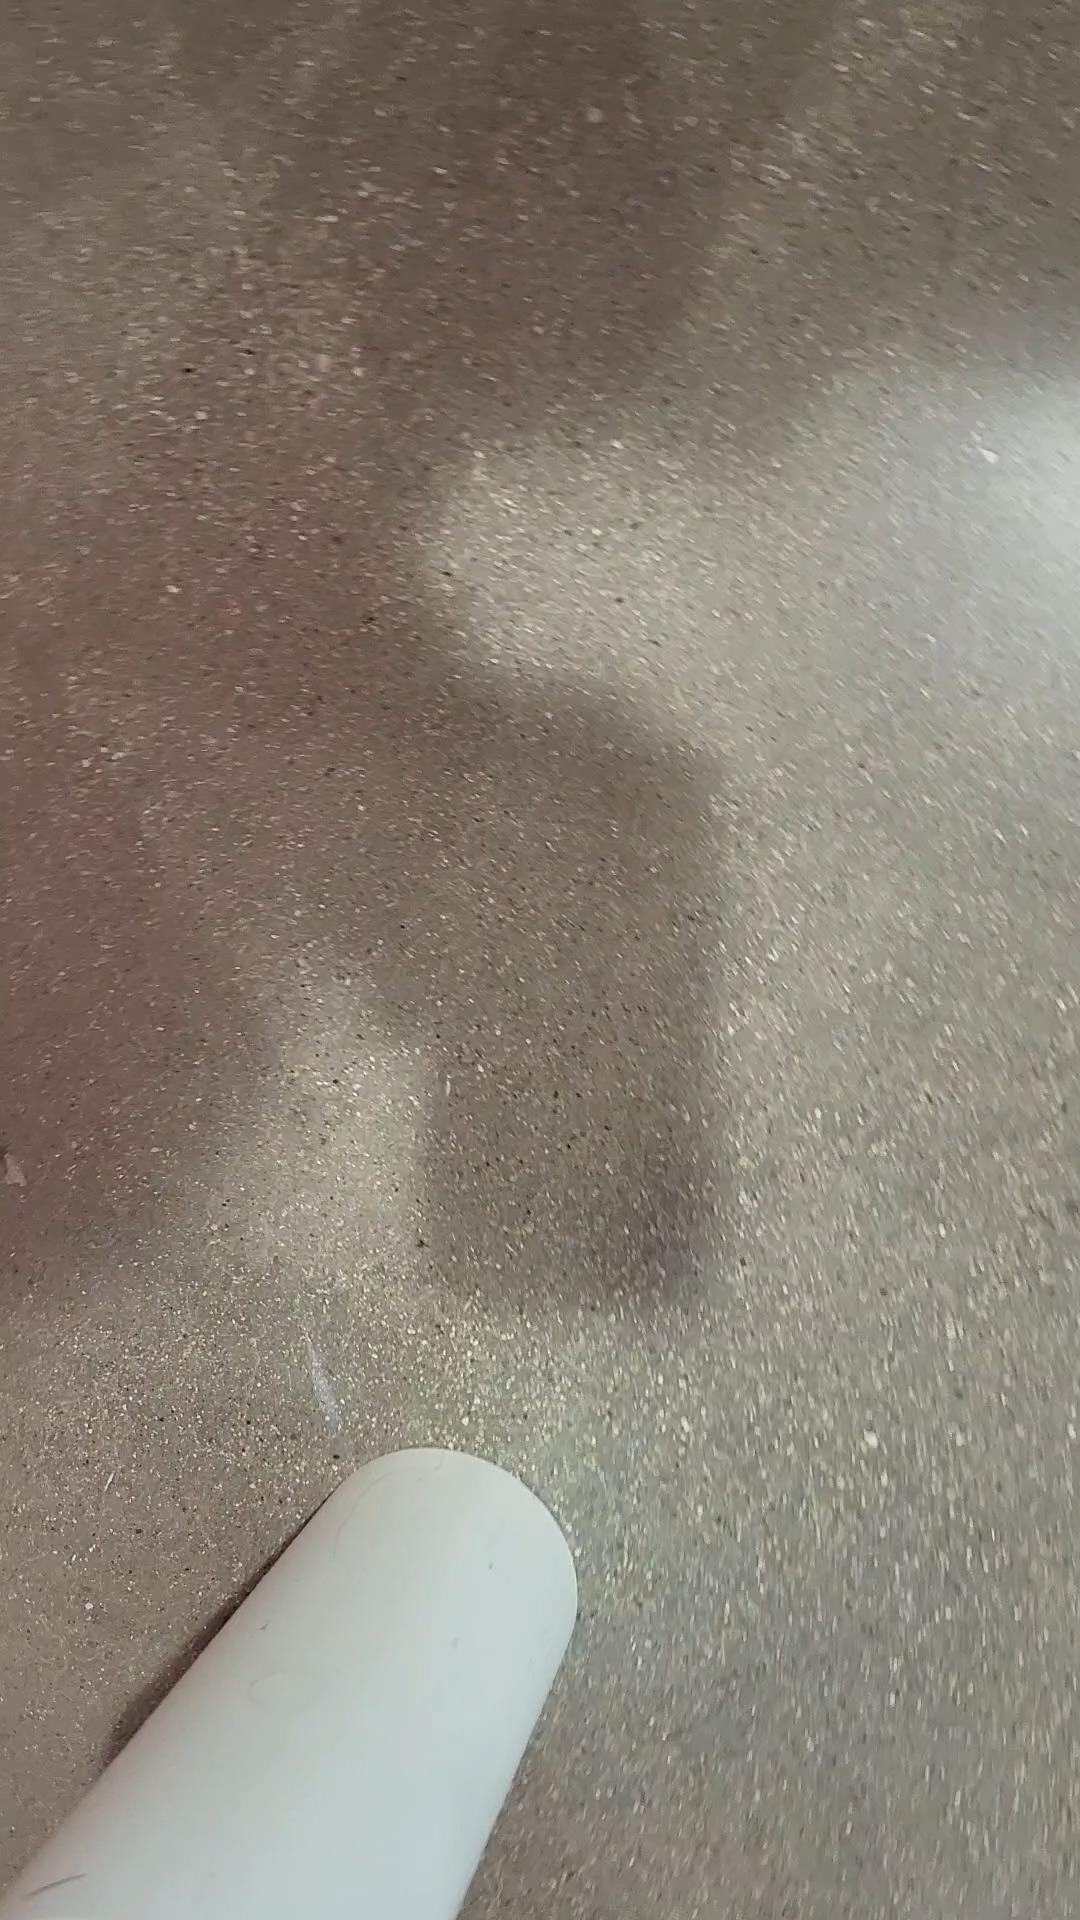coral: (0, 1445, 583, 1920)
